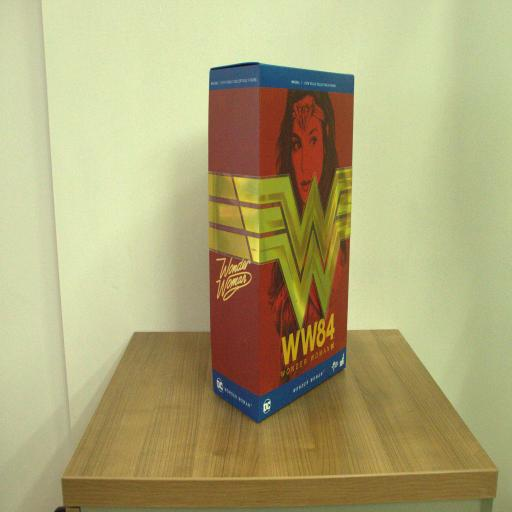WonderWoman: (206, 61, 354, 422)
